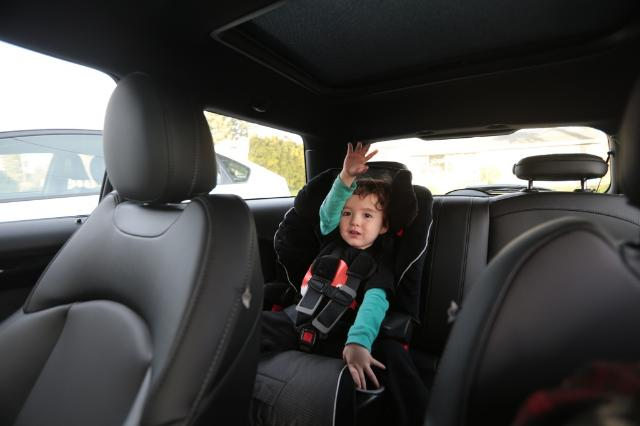Seatbelt: (298, 237, 372, 353)
